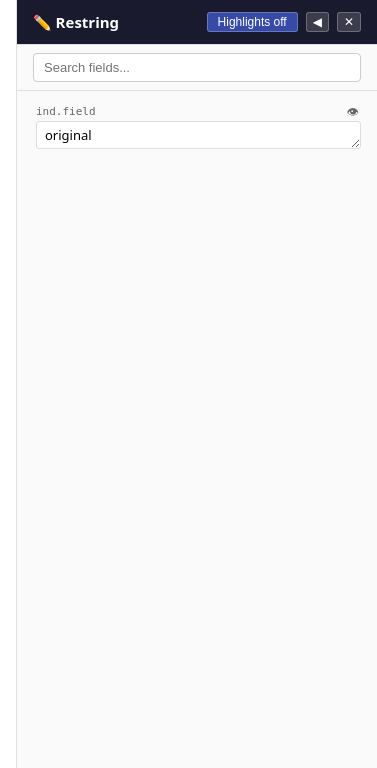
Test case: RestringSidebar › shows reset link on individual dirty field
Expected: the text "reset" is not shown
Replace the text in the text box named "Edit ind.field" with "changed": (198, 135) [36,121,361,149]
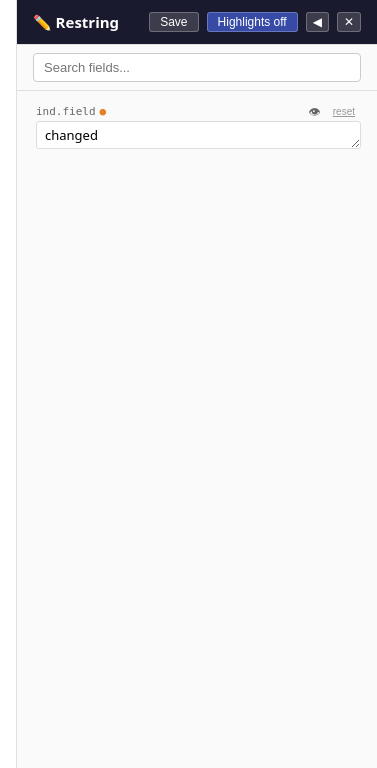
Now the button "reset" is shown
Click the button "reset": (344, 112) [327,105,361,118]
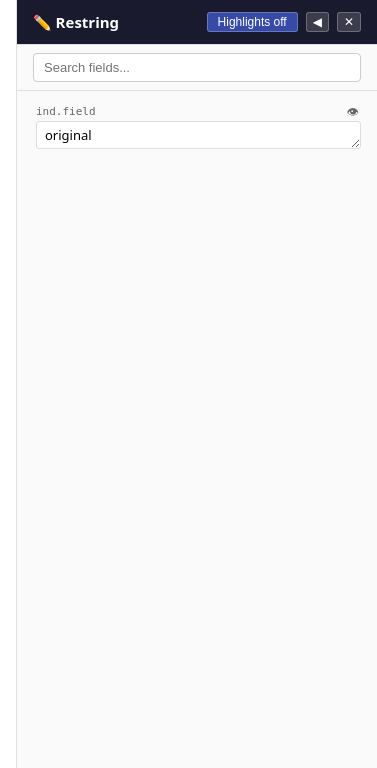
Now the text box named "Edit ind.field" holds "original", box [36,121,361,149]
